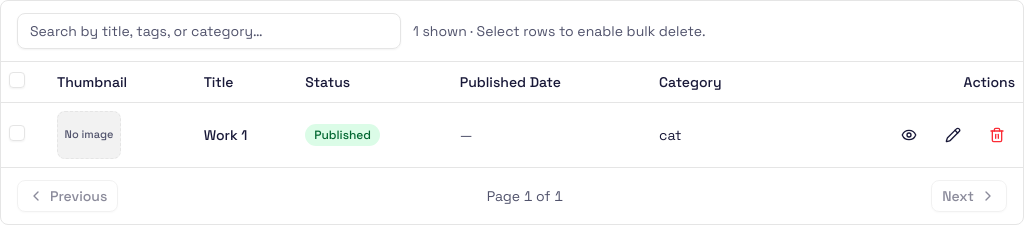
Test: admin bulk selection tables › shows works bulk delete button when rows are selected
This screenshot has width=1024, height=242.
Click the checkbox named "Select Work 1".
click(17, 132)  # box [9,124,25,140]
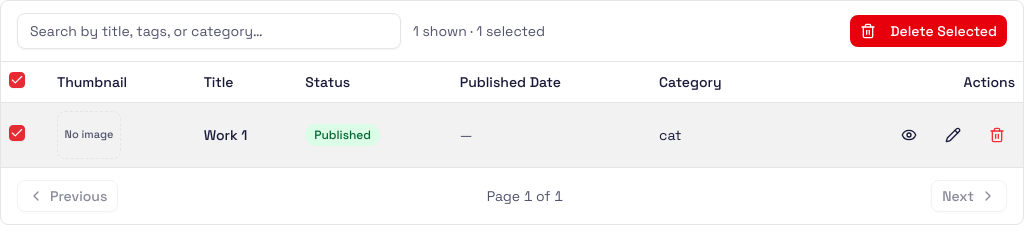
Now the button "Delete Selected" is shown, box [850,15,1007,47]
